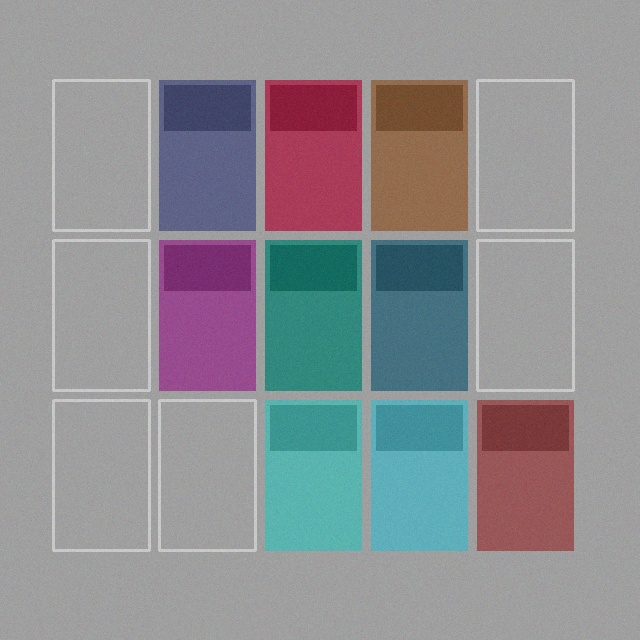space-empty: (53, 80, 149, 230), (477, 80, 573, 230), (53, 240, 149, 390), (477, 240, 573, 390), (53, 400, 149, 550), (159, 400, 255, 550)
space-occupied: (159, 80, 255, 230), (265, 80, 361, 230), (371, 80, 467, 230), (159, 240, 255, 390), (265, 240, 361, 390), (371, 240, 467, 390), (265, 400, 361, 550), (371, 400, 467, 550), (477, 400, 573, 550)
